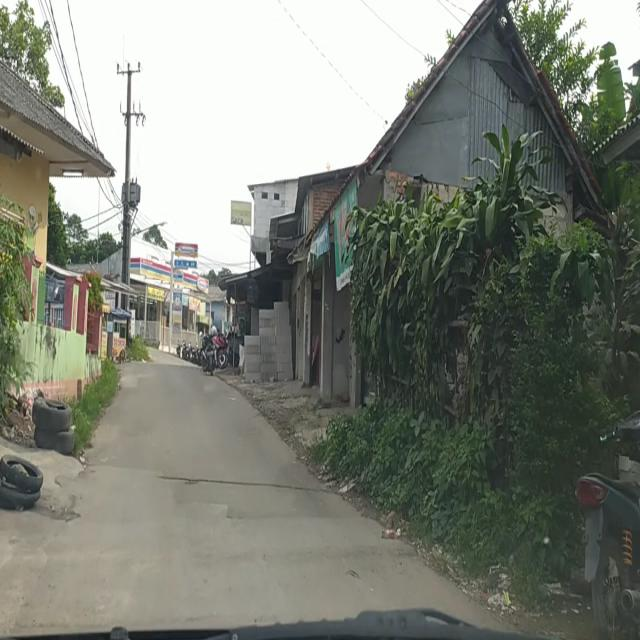Sewer Cover: (158, 468, 328, 494)
